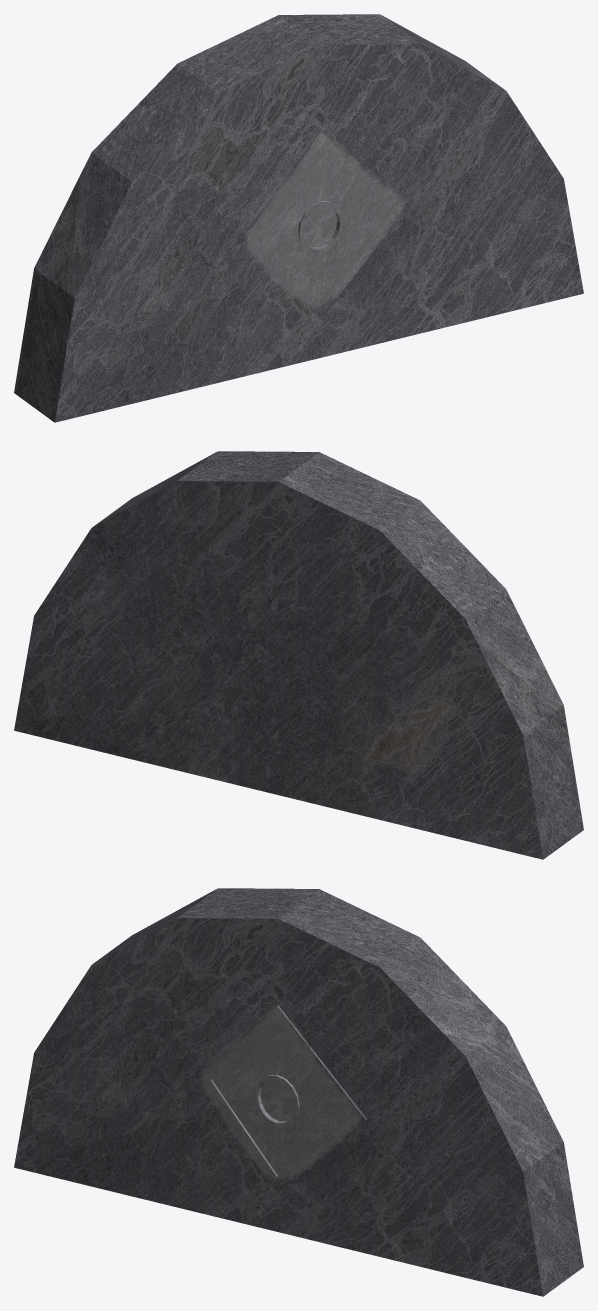
Rendered from stonedoor.fbx.
3 views of the same model, one above another, from view 1: azimuth 30°, elevation 25°; view 2: azimuth 150°, elevation 25°; view 3: azimuth 330°, elevation 25° (orthographic).
Parts seen in each view (by area): view 1: StoneDoor; view 2: StoneDoor; view 3: StoneDoor.
Boxes of the visible parts, x1,y1,x2,y2 form: StoneDoor: (14, 14, 583, 422); StoneDoor: (14, 451, 583, 859); StoneDoor: (14, 888, 583, 1296).
Size of the model in its own units: 6.47 by 3.66 by 0.9073.
1 material, 1 textured.
